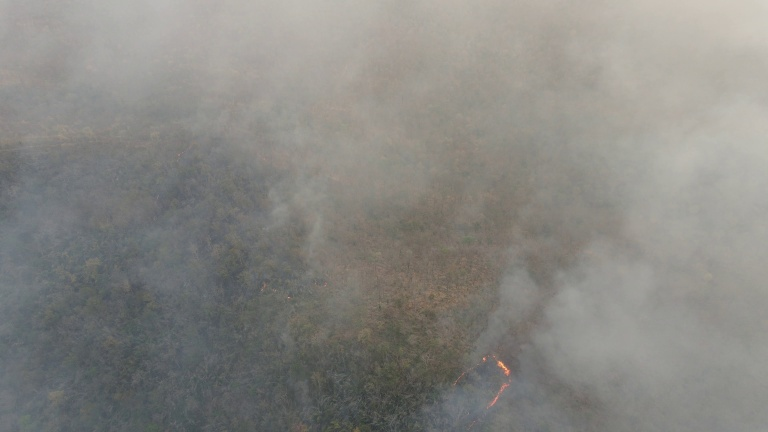fire: (450, 347, 512, 409), (246, 279, 343, 303)
smoke: (431, 1, 768, 432), (3, 1, 434, 218)
